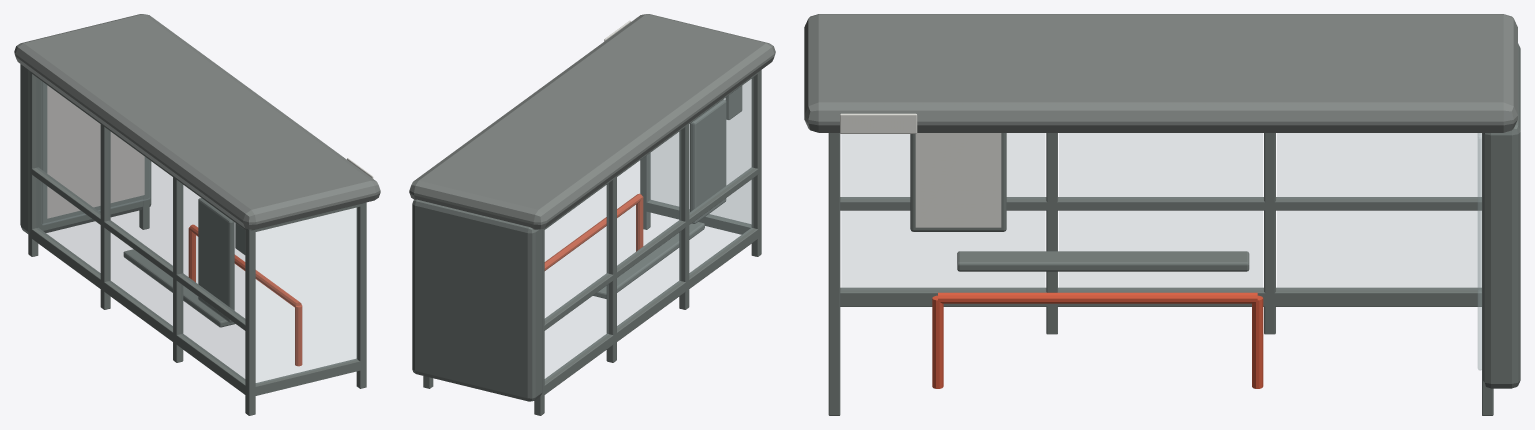
Rendered from preston-bus-shelter.glb.
3 renders of one model, left to right at view 1: azimuth 30°, elevation 25°; view 2: azimuth 150°, elevation 25°; view 3: azimuth 270°, elevation 25°, orthographic. The views are drawn at different scales.
Visible parts, largest first — view 1: BUSSTOP_Roof_Shell, BUSSTOP_Glass_Left, BUSSTOP_Frame, BUSSTOP_Glass_Rear03, BUSSTOP_Glass_Rear01, BUSSTOP_Glass_Rear02, BUSSTOP_Advert_DecalSurface, BUSSTOP_AdvertHousing_Outer, BUSSTOP_Timetable_Backplate, BUSSTOP_Frame_LeftFrontUpright, BUSSTOP_Frame_LeftBottomRail, BUSSTOP_Bench_Perch (+6 smaller); view 2: BUSSTOP_Roof_Shell, BUSSTOP_AdvertHousing_Outer, BUSSTOP_Frame, BUSSTOP_Glass_Rear01, BUSSTOP_Glass_Rear02, BUSSTOP_Glass_Rear03, BUSSTOP_Glass_Left, BUSSTOP_Timetable_Backplate, BUSSTOP_Bench_Perch, BUSSTOP_Frame_LeftBottomRail, BUSSTOP_BenchRail_Horizontal, BUSSTOP_Frame_LeftFrontUpright (+2 smaller); view 3: BUSSTOP_Roof_Shell, BUSSTOP_Glass_Rear03, BUSSTOP_Glass_Rear02, BUSSTOP_Frame, BUSSTOP_Glass_Rear01, BUSSTOP_AdvertHousing_Outer, BUSSTOP_Timetable_DecalSurface, BUSSTOP_Bench_Perch, BUSSTOP_BenchRail_Horizontal, BUSSTOP_Frame_LeftFrontUpright, BUSSTOP_Number_DecalSurface, BUSSTOP_Timetable_Backplate (+3 smaller).
Part boxes in pixels (x1,y1,x2,y2): BUSSTOP_Roof_Shell: [14, 14, 380, 229]; BUSSTOP_Glass_Left: [256, 208, 357, 383]; BUSSTOP_Frame: [28, 71, 255, 415]; BUSSTOP_Glass_Rear03: [36, 78, 100, 274]; BUSSTOP_Glass_Rear01: [181, 183, 244, 380]; BUSSTOP_Glass_Rear02: [109, 131, 172, 327]; BUSSTOP_Advert_DecalSurface: [47, 85, 144, 218]; BUSSTOP_AdvertHousing_Outer: [20, 64, 151, 233]; BUSSTOP_Timetable_Backplate: [198, 198, 234, 322]; BUSSTOP_Frame_LeftFrontUpright: [356, 202, 366, 388]; BUSSTOP_Frame_LeftBottomRail: [251, 358, 364, 396]; BUSSTOP_Bench_Perch: [123, 249, 235, 327]; BUSSTOP_Roof_Shell: [409, 14, 775, 229]; BUSSTOP_AdvertHousing_Outer: [412, 199, 542, 401]; BUSSTOP_Frame: [534, 70, 761, 415]; BUSSTOP_Glass_Rear01: [689, 78, 753, 274]; BUSSTOP_Glass_Rear02: [617, 131, 680, 327]; BUSSTOP_Glass_Rear03: [545, 183, 608, 380]; BUSSTOP_Glass_Left: [650, 80, 750, 224]; BUSSTOP_Timetable_Backplate: [690, 99, 726, 223]; BUSSTOP_Bench_Perch: [593, 222, 704, 298]; BUSSTOP_Frame_LeftBottomRail: [643, 200, 751, 234]; BUSSTOP_BenchRail_Horizontal: [544, 193, 642, 270]; BUSSTOP_Frame_LeftFrontUpright: [640, 153, 650, 229]; BUSSTOP_Roof_Shell: [804, 14, 1517, 132]; BUSSTOP_Glass_Rear03: [1277, 133, 1477, 289]; BUSSTOP_Glass_Rear02: [1059, 133, 1262, 289]; BUSSTOP_Frame: [840, 133, 1481, 334]; BUSSTOP_Glass_Rear01: [841, 133, 1044, 289]; BUSSTOP_AdvertHousing_Outer: [1483, 43, 1520, 388]; BUSSTOP_Timetable_DecalSurface: [915, 133, 1001, 227]; BUSSTOP_Bench_Perch: [957, 251, 1249, 271]; BUSSTOP_BenchRail_Horizontal: [938, 292, 1257, 303]; BUSSTOP_Frame_LeftFrontUpright: [828, 133, 840, 415]; BUSSTOP_Number_DecalSurface: [840, 113, 917, 133]; BUSSTOP_Timetable_Backplate: [910, 133, 1006, 231].
Size of the model in its own units: 1.74 by 2.52 by 5.2.
